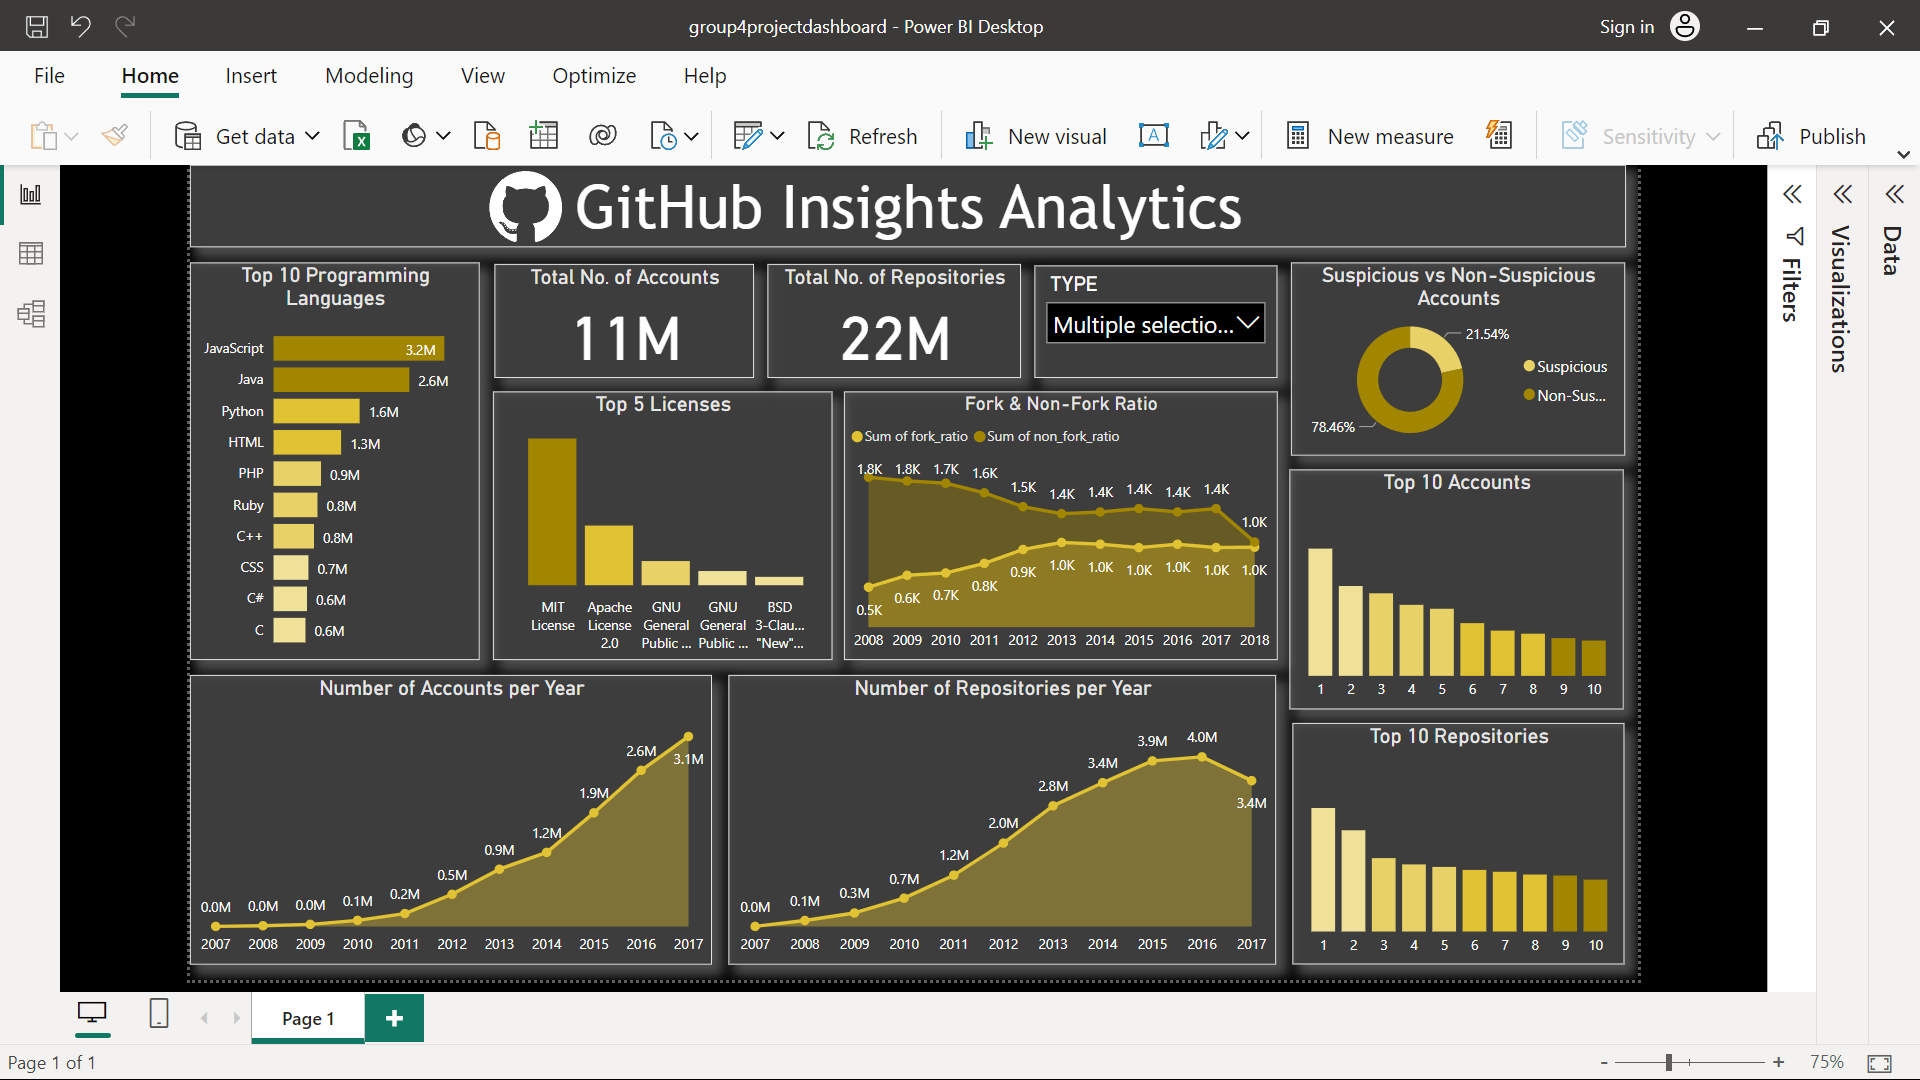

What the dashboard file says about the page in this screenshot:
{"tool":"powerbi","page":{"name":"Visualisation","canvas":[1280,720],"ordinal":0},"visuals":[{"type":"slicer","fields":{"Values":["count_of_id_by_year_and_month.type"]},"box":[959.2,84.7,304.1,96.8],"z":0},{"type":"card","title":"No of Accounts","fields":{"Values":["Sum(count_of_id_by_year_and_month.count)"]},"box":[228.3,86.7,305,95],"z":1000},{"type":"clusteredBarChart","title":"Top 10 Programming Languages","fields":{"Category":["count_of_language.language"],"Y":["Sum(count_of_language.id_count)"]},"box":[0,87.1,217.1,342.9],"z":2000},{"type":"clusteredColumnChart","title":"Top 5 Licenses","fields":{"Category":["license_view.license"],"Y":["Sum(license_view.no. of users)"]},"box":[228.3,188.3,305,241.7],"z":3000},{"type":"card","title":"No of Repositories","fields":{"Values":["Sum(repository_creation_count_by_type.repository count)"]},"box":[552.2,84.7,396.4,96.8],"z":4000},{"type":"clusteredColumnChart","title":"No of Accounts per Year","fields":{"Y":["Sum(count_of_id_by_year_and_month.count)"],"Category":["count_of_id_by_year_and_month.year_wise","count_of_id_by_year_and_month.month_wise"]},"box":[0,441.7,533.3,265],"z":5000},{"type":"areaChart","title":"Fork & Non-fork Ratio ","fields":{"Y":["Sum(repoforkratio.fork_ratio)","Sum(repoforkratio.non_fork_ratio)"],"Category":["repoforkratio.year"]},"box":[550.7,441.8,397.9,264.8],"z":6000},{"type":"donutChart","title":"Suspicious VS Non Suspicious Accounts","fields":{"Y":["Sum(view_suspicious_counts_by_year_month.suspicious_count)","Sum(view_suspicious_counts_by_year_month.non_suspicious_count)"]},"box":[550.7,187.6,397.9,242.1],"z":7000},{"type":"textbox","box":[0,0,1263.3,73.3],"z":8000},{"type":"clusteredColumnChart","title":"Top 10 Accounts","fields":{"Y":["Sum(final_top_10_accounts.score)"],"Category":["final_top_10_accounts.score_rank"]},"box":[959.2,187.6,304.1,242.1],"z":9000},{"type":"clusteredColumnChart","title":"Top 10 Repositories","fields":{"Y":["Sum(final_top_10_repos.score)"],"Category":["final_top_10_repos.score_rank"]},"box":[959.2,441.8,304.1,264.8],"z":12001},{"type":"image","box":[228.3,0,105,73.3],"z":12002}]}

Visuals, with their boxes on the page's 1280x720 design canvas (x1, y1, x2, y2). These are canvas units, not pixel positions in the 1920x1080 screenshot, which may show the page scaled, cropped or inside an application window:
slicer - count_of_id_by_year_and_month.type: select_region(959, 85, 1263, 182)
"No of Accounts" card: select_region(228, 87, 533, 182)
"Top 10 Programming Languages" clusteredBarChart: select_region(0, 87, 217, 430)
"Top 5 Licenses" clusteredColumnChart: select_region(228, 188, 533, 430)
"No of Repositories" card: select_region(552, 85, 949, 182)
"No of Accounts per Year" clusteredColumnChart: select_region(0, 442, 533, 707)
"Fork & Non-fork Ratio " areaChart: select_region(551, 442, 949, 707)
"Suspicious VS Non Suspicious Accounts" donutChart: select_region(551, 188, 949, 430)
textbox: select_region(0, 0, 1263, 73)
"Top 10 Accounts" clusteredColumnChart: select_region(959, 188, 1263, 430)
"Top 10 Repositories" clusteredColumnChart: select_region(959, 442, 1263, 707)
image: select_region(228, 0, 333, 73)
